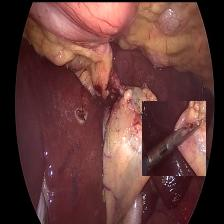Grasper: (141, 100, 205, 175)
